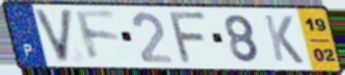2: (130, 10, 177, 64)
8: (223, 13, 262, 64)
F: (72, 9, 123, 64), (168, 10, 210, 65)
K: (262, 13, 307, 66)
V: (31, 8, 75, 65)
